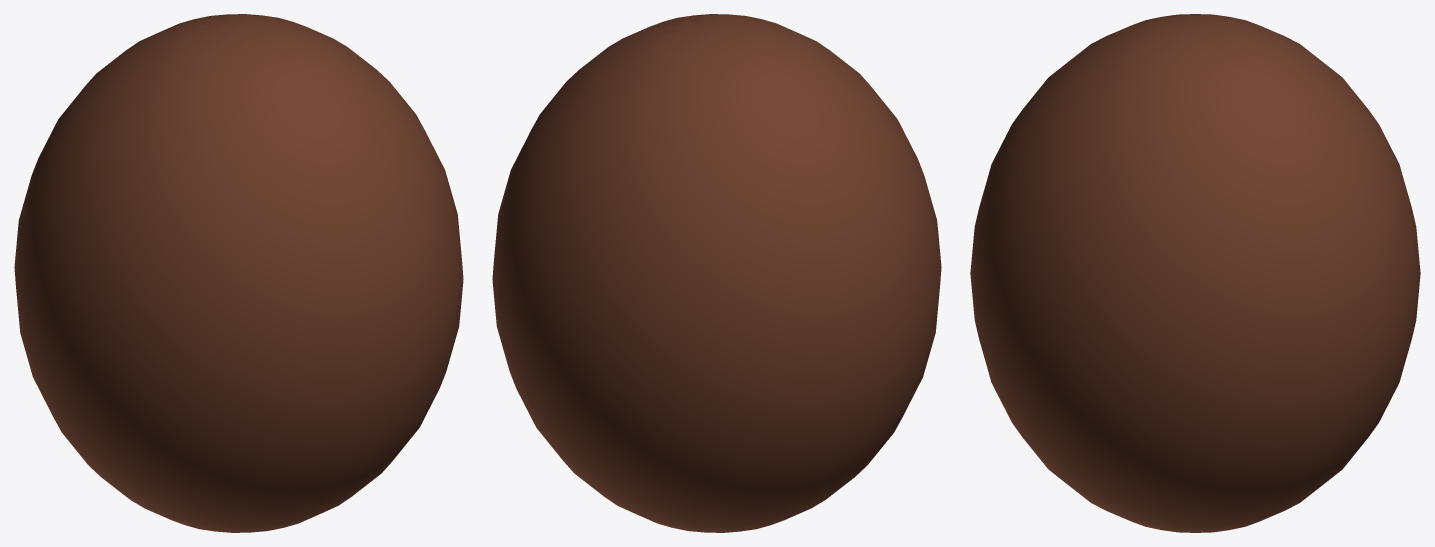
The model's file is Coco.glb.
3 renders of one model, left to right at view 1: azimuth 30°, elevation 25°; view 2: azimuth 150°, elevation 25°; view 3: azimuth 270°, elevation 25°, orthographic.
Parts seen in each view (by area): view 1: CocoBase; view 2: CocoBase; view 3: CocoBase.
Part boxes in pixels (<box>): CocoBase: <box>14,14,463,532</box>; CocoBase: <box>492,14,941,532</box>; CocoBase: <box>970,14,1420,532</box>.
Bounding box in the file's own units: 1.9 × 2.26 × 1.9.
